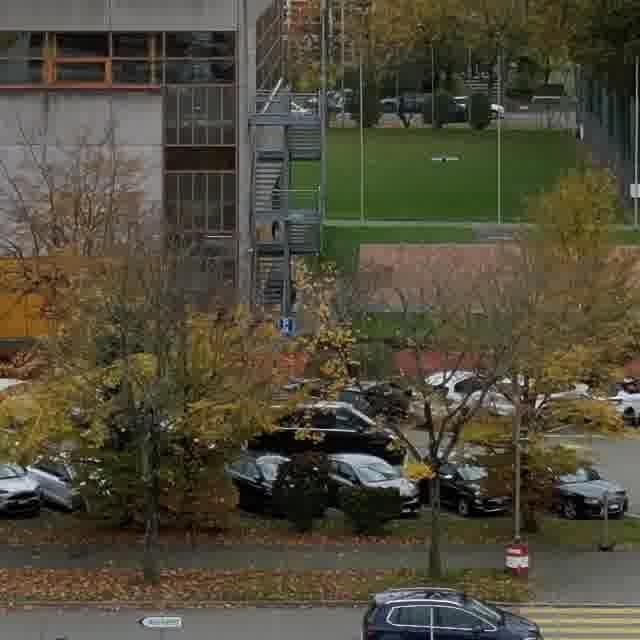Drohne: (432, 155, 459, 162)
